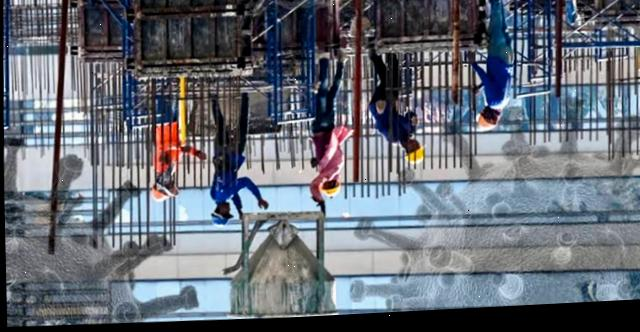helmet: (460, 113, 498, 145), (399, 141, 437, 172), (146, 182, 174, 206), (319, 185, 347, 204)
vest: (144, 116, 191, 180)
